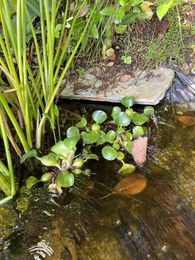water_hyacinth: (17, 82, 157, 211)
